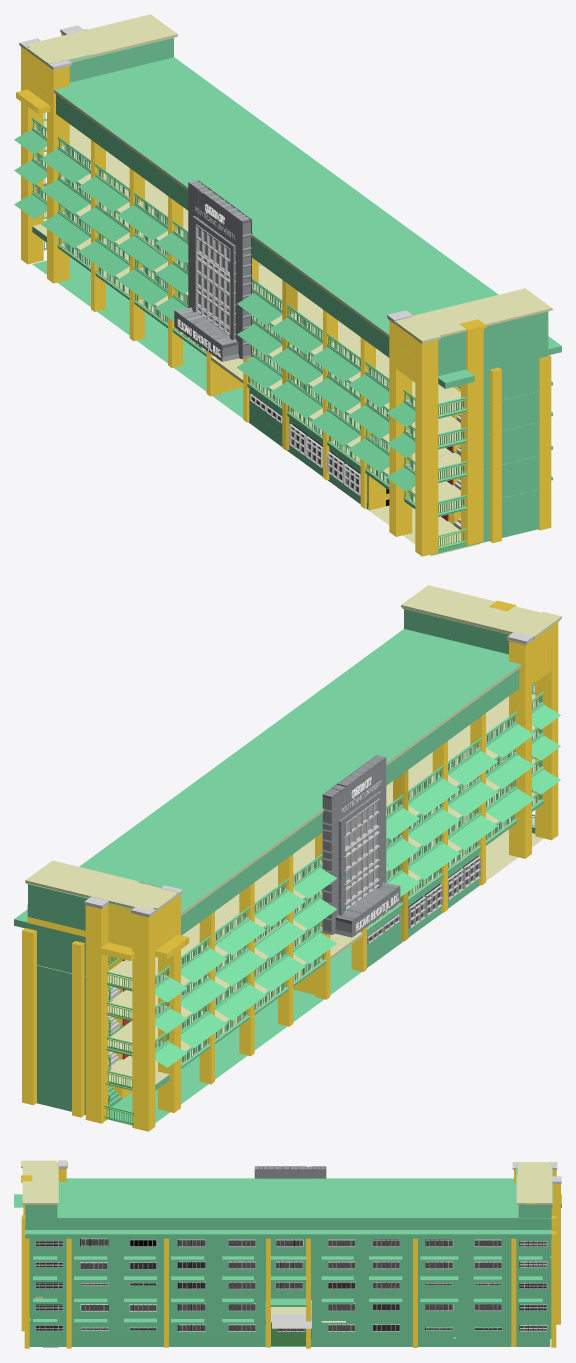
The model's file is cbatasan.glb.
3 renders of one model, top to bottom at view 1: azimuth 30°, elevation 25°; view 2: azimuth 150°, elevation 25°; view 3: azimuth 270°, elevation 25°, orthographic. The views are drawn at different scales.
Visible parts, largest first — view 1: Circle.028; view 2: Circle.028; view 3: Circle.028.
Boxes of the visible parts, x1=… form: Circle.028: x1=14, y1=14, x2=561, y2=556; Circle.028: x1=14, y1=585, x2=561, y2=1131; Circle.028: x1=14, y1=1160, x2=561, y2=1348.
Bounding box in the file's own units: 7.55 × 9.18 × 31.21.
